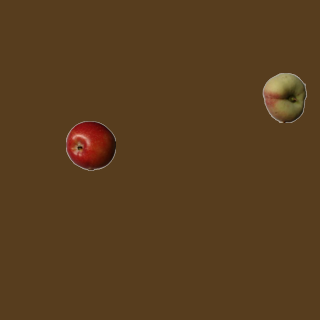Apple Braeburn: (65, 120, 115, 170)
Peach Flat: (259, 72, 309, 122)
